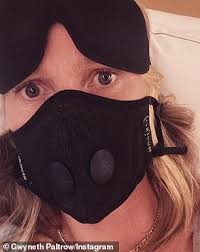mask: (4, 4, 165, 217)
